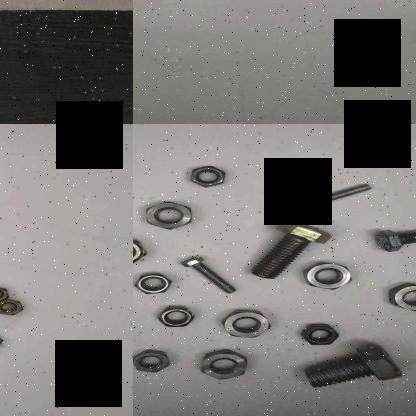Bolts: (302, 344, 401, 393), (247, 220, 330, 278), (298, 176, 380, 218), (175, 253, 243, 297), (371, 224, 416, 253)
NUTS: (192, 347, 249, 385), (301, 259, 357, 293), (216, 310, 274, 342), (140, 200, 194, 231), (298, 322, 344, 348), (184, 163, 228, 189), (133, 269, 177, 295), (384, 279, 416, 312), (154, 306, 200, 328), (133, 348, 169, 376), (133, 232, 152, 266), (0, 298, 24, 316), (0, 283, 8, 304)
